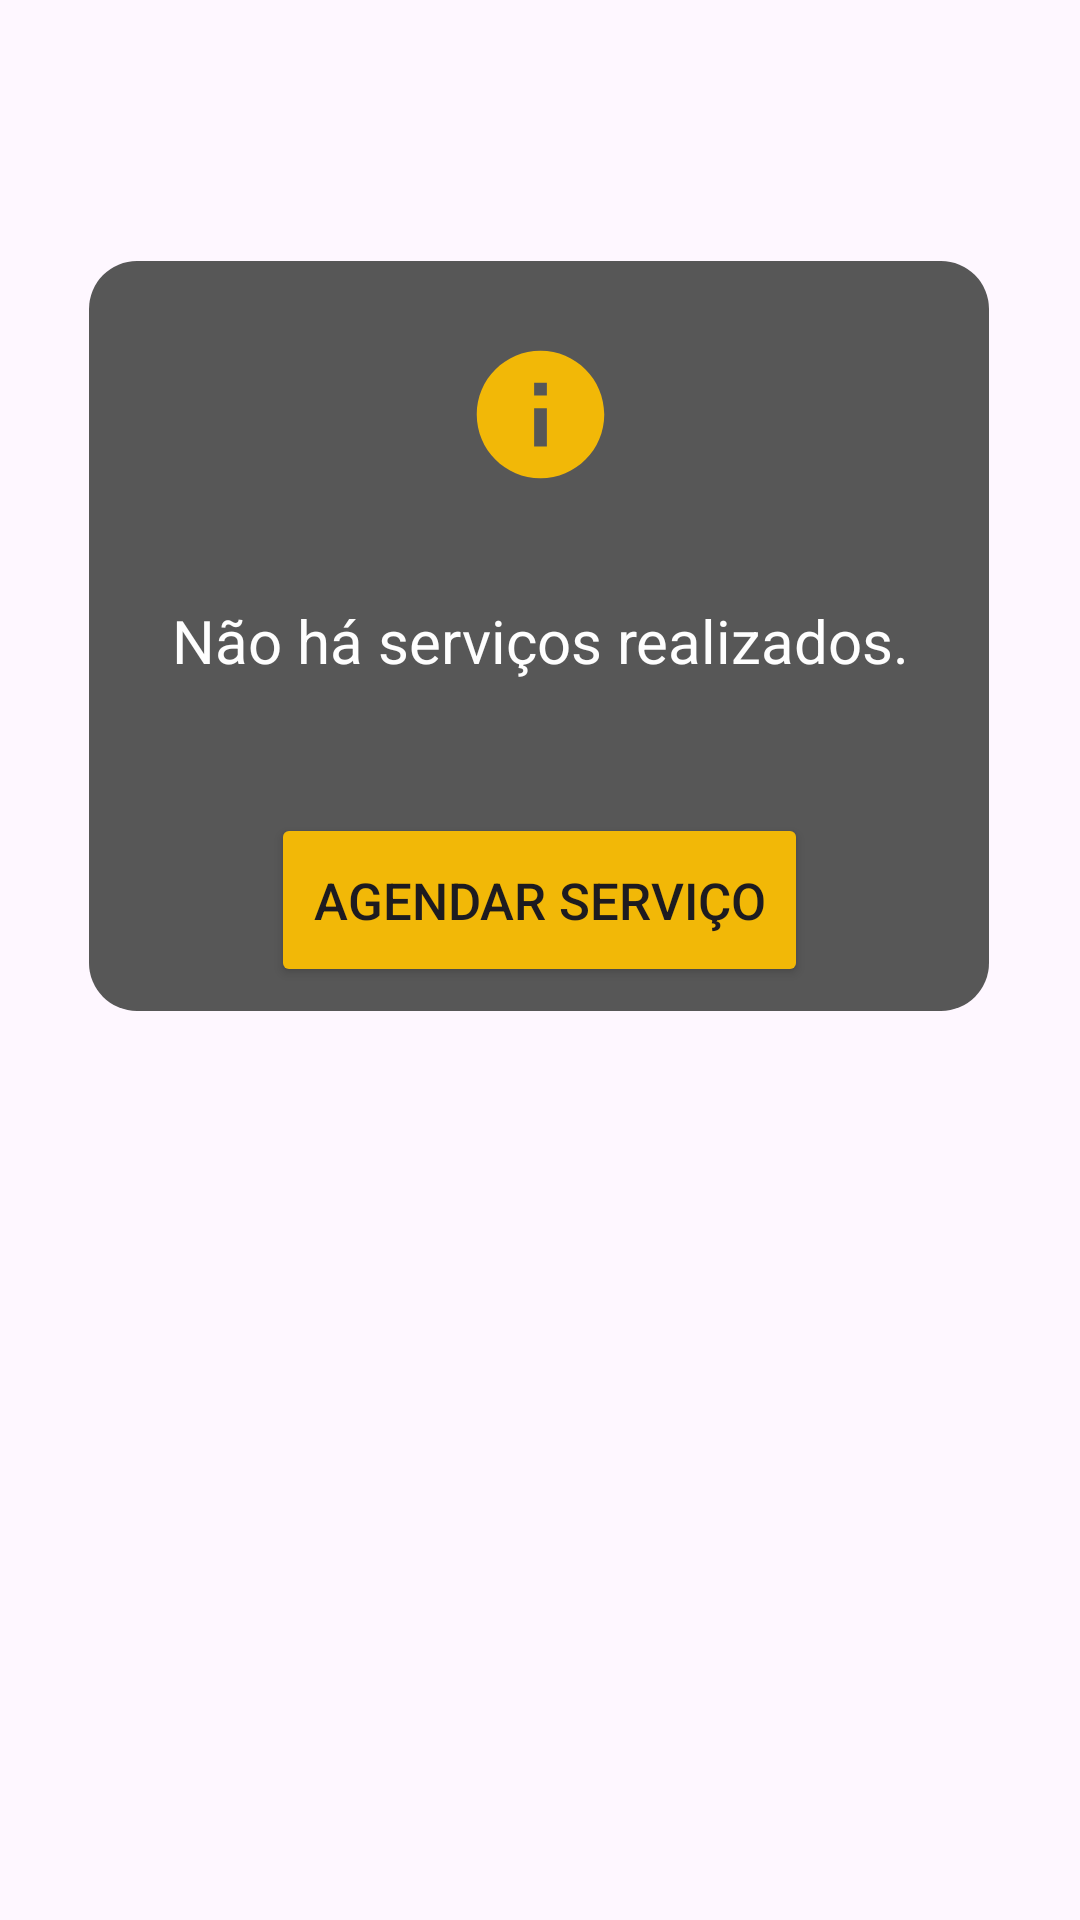

Where to tap for icons on this 1080px x 1920px app screen, as (x=x, y=y):
info: (x=540, y=414)
